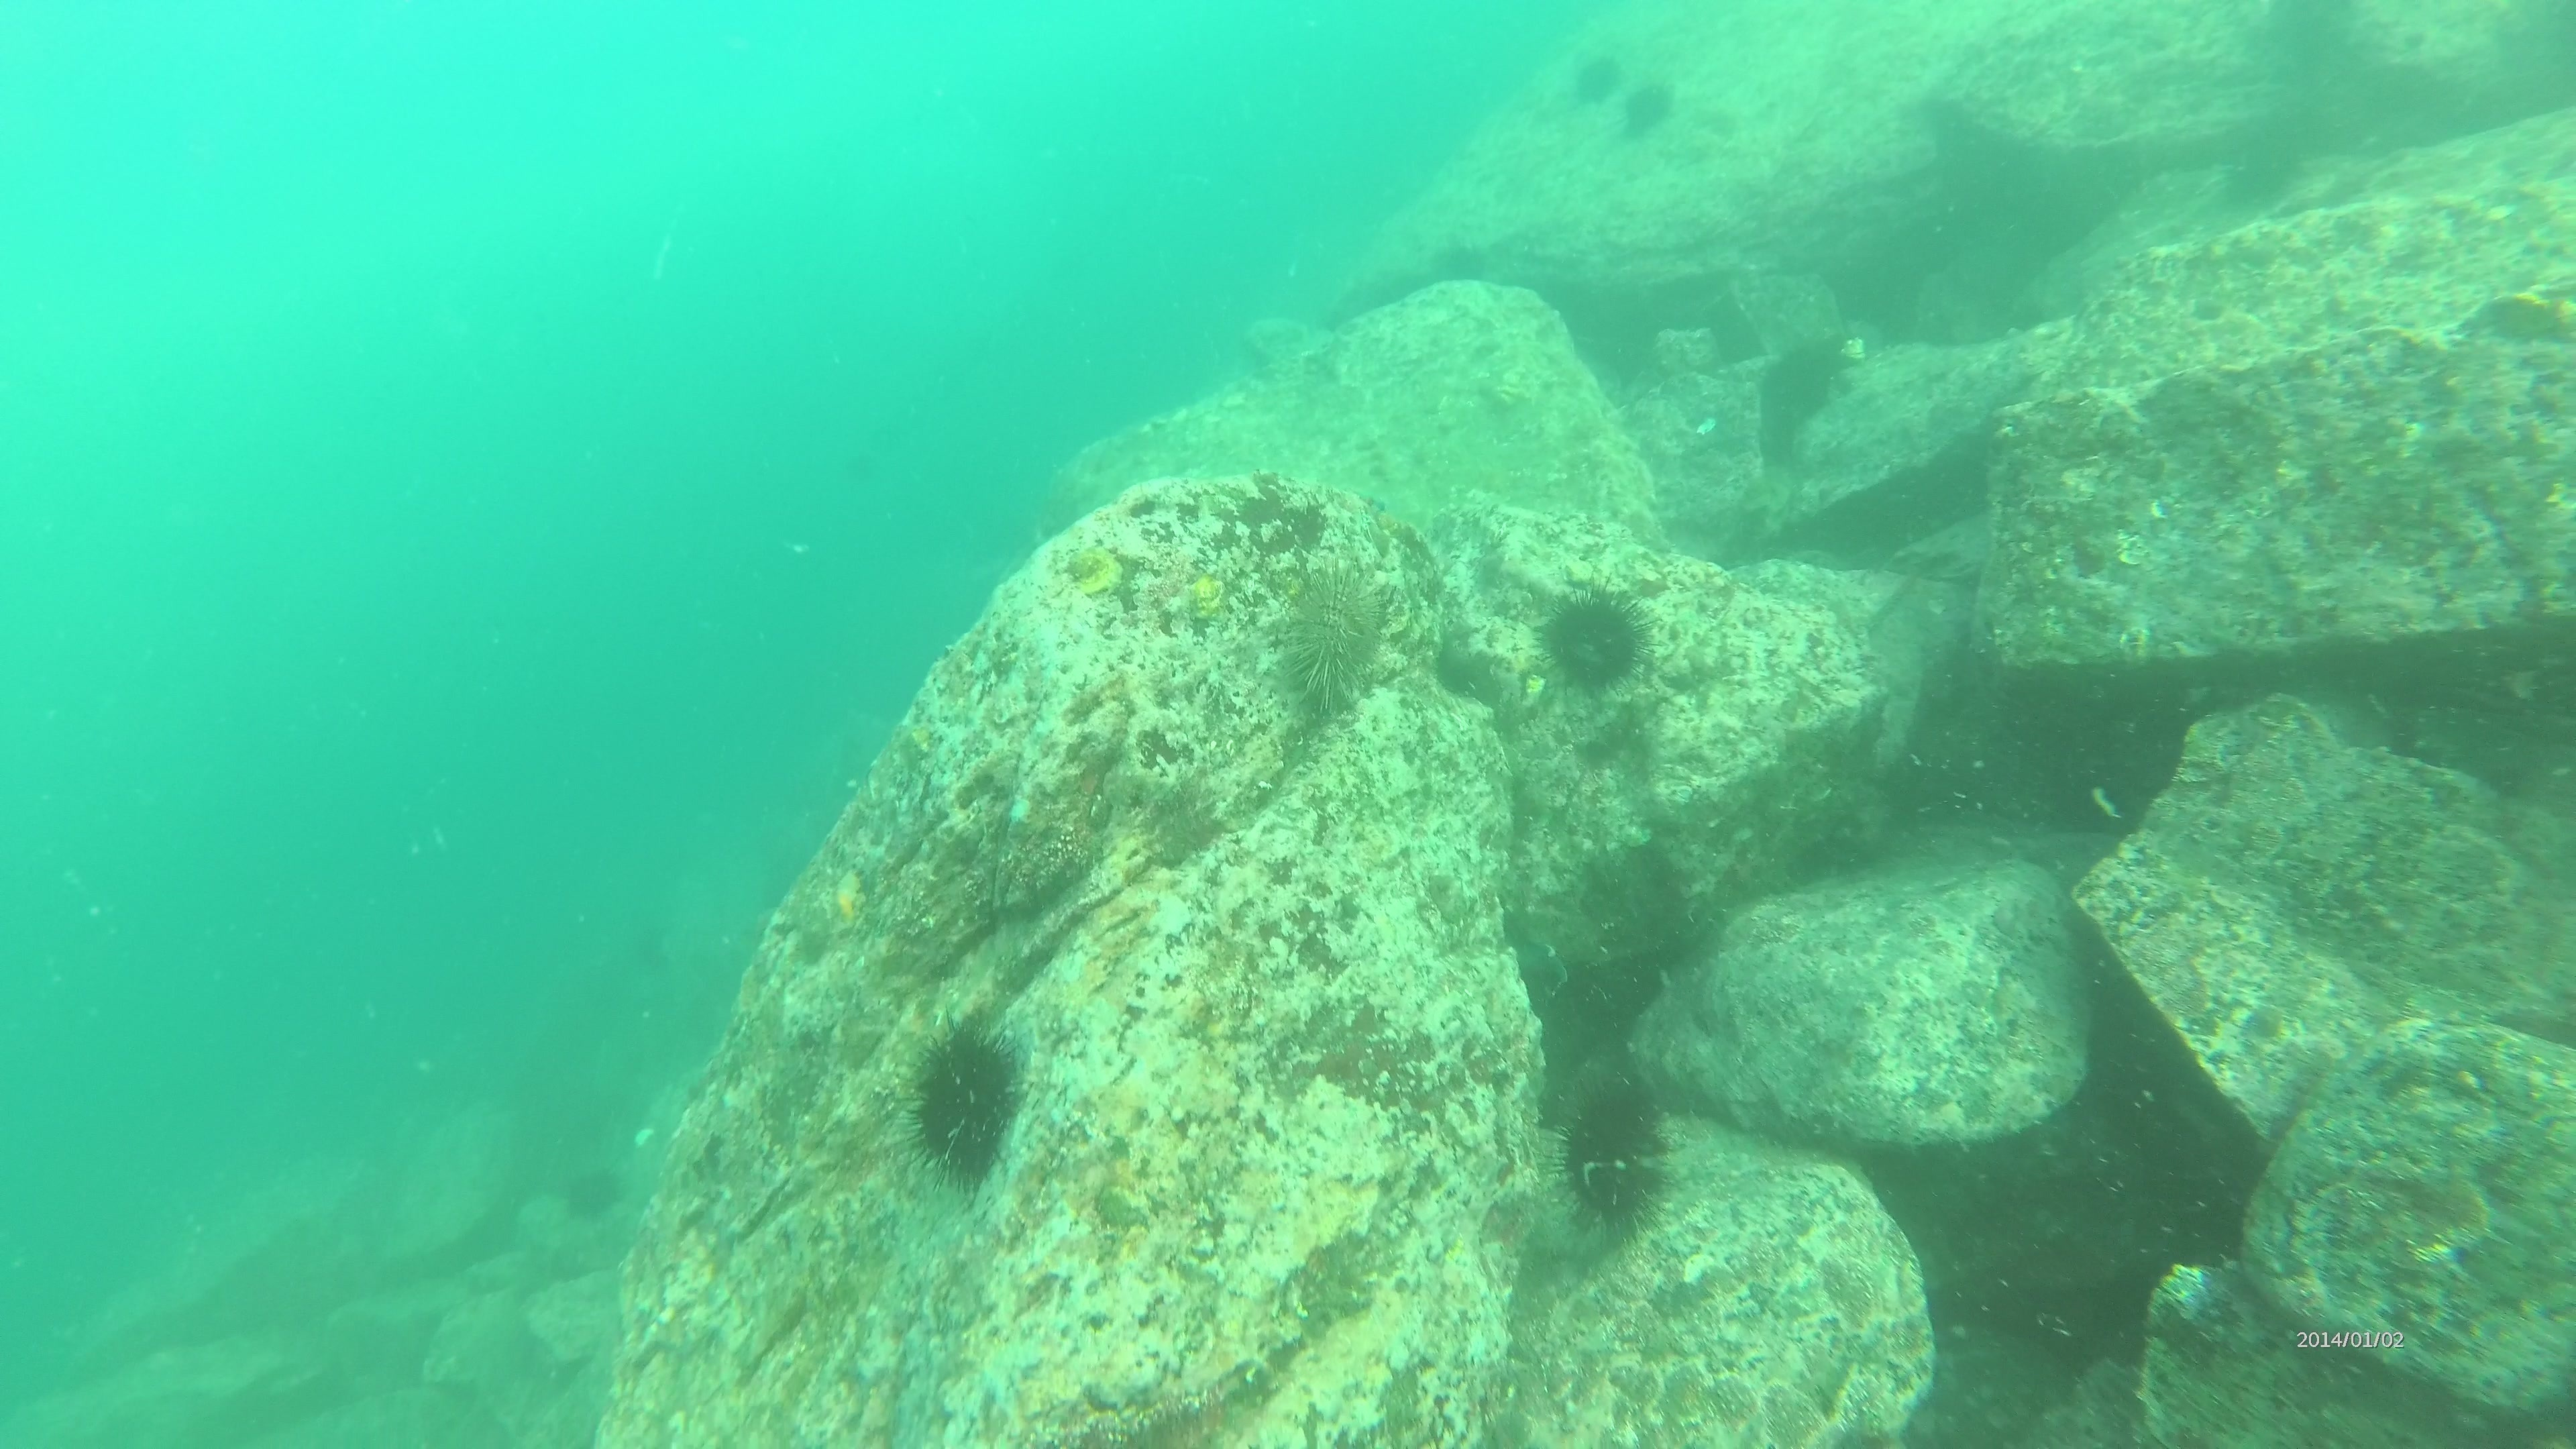echinus: (895, 1014, 1033, 1191), (1263, 552, 1403, 717), (1550, 1076, 1681, 1242), (1530, 580, 1656, 701), (1752, 327, 1858, 435), (2212, 122, 2312, 216), (556, 1157, 628, 1228), (1614, 73, 1679, 143), (1566, 48, 1626, 111)
